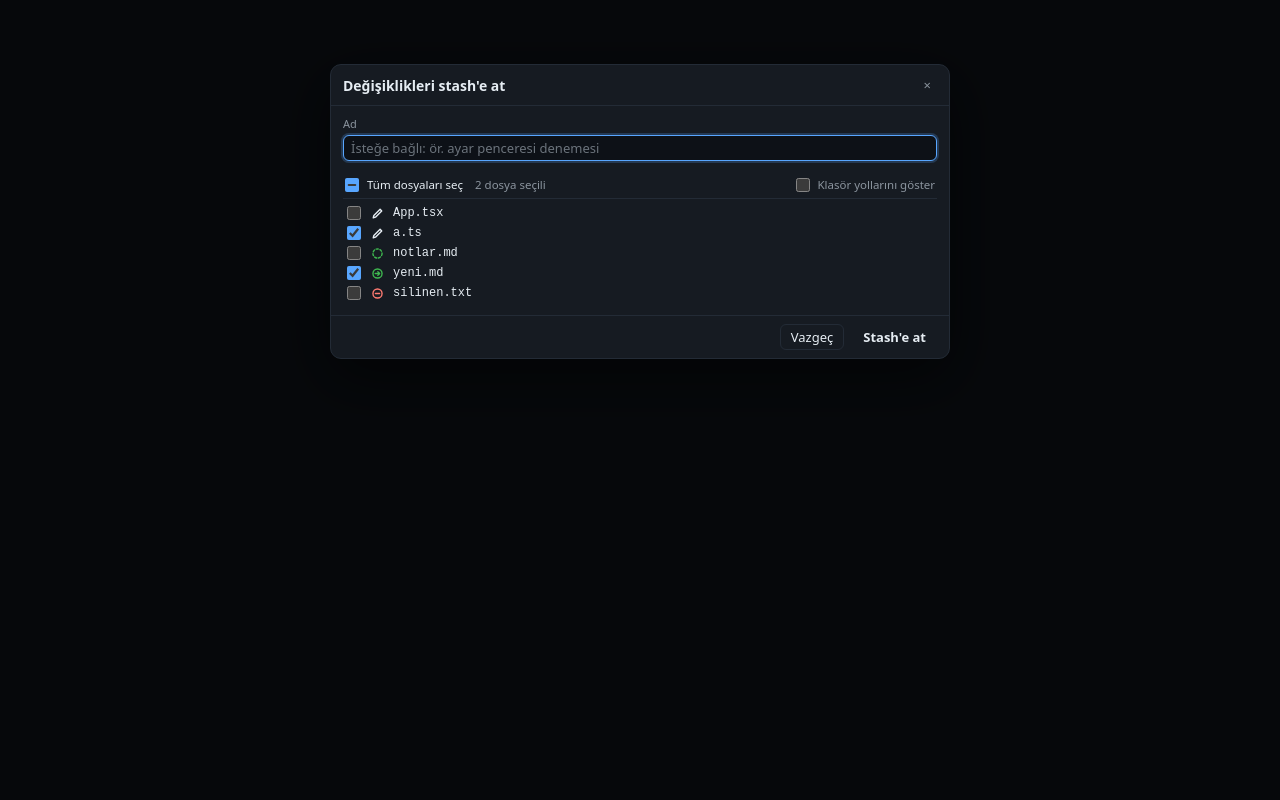
Test case: hata › pencere AÇIK kalıyor, ad ve seçim korunuyor, git'in metni kalıcı kutuda
Click the checkbox labelled "Tüm dosyaları seç": (352, 184) top-left (345, 178), bottom-right (359, 192)
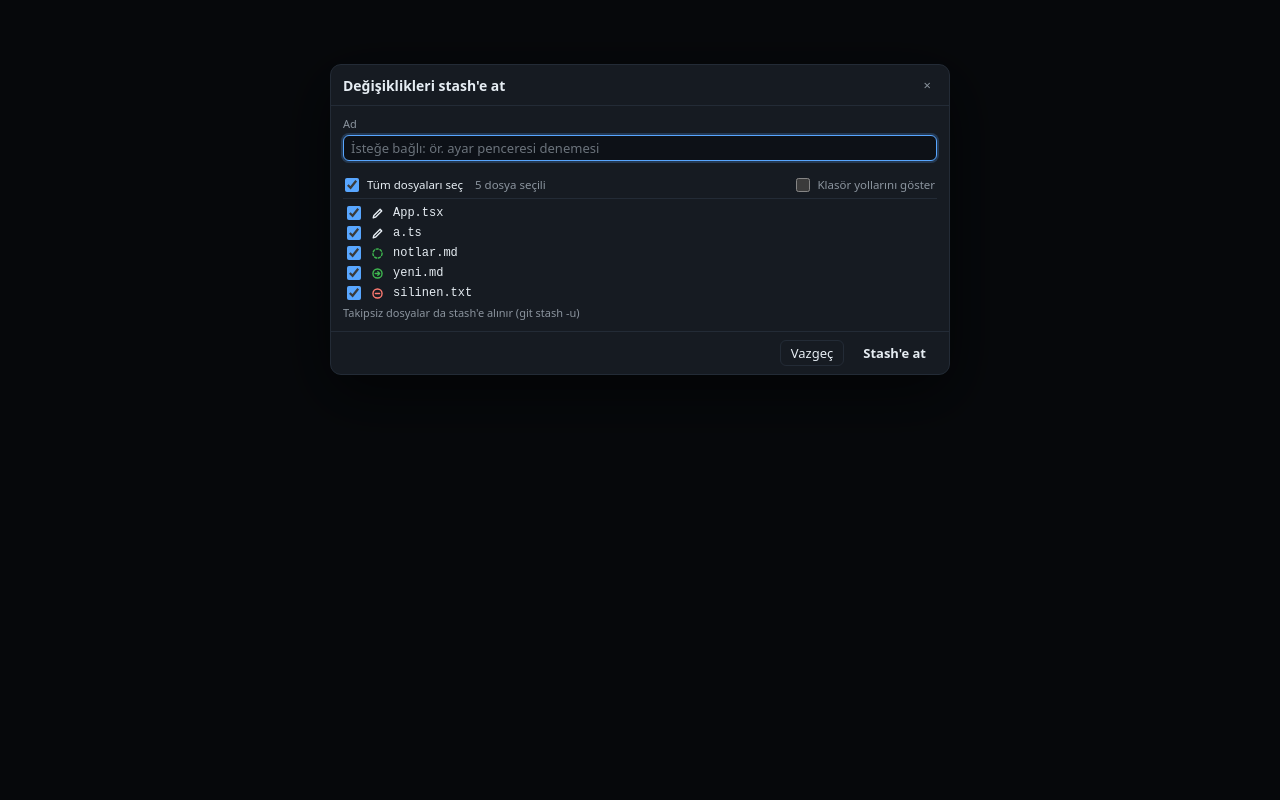
In the field with id "stash-name": (640, 148) top-left (343, 135), bottom-right (937, 161), type "kayboldu mu"
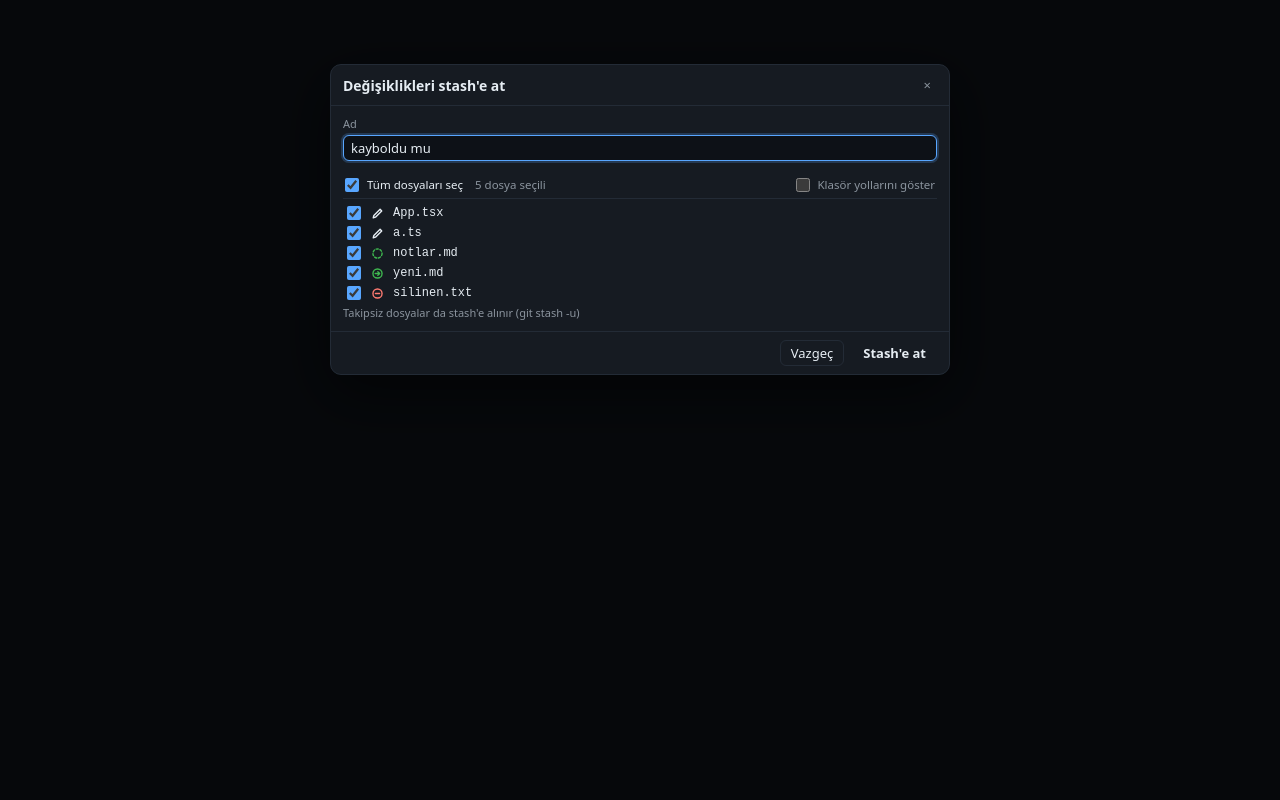
Click the checkbox labelled "silinen.txt": (354, 293) top-left (347, 286), bottom-right (361, 300)
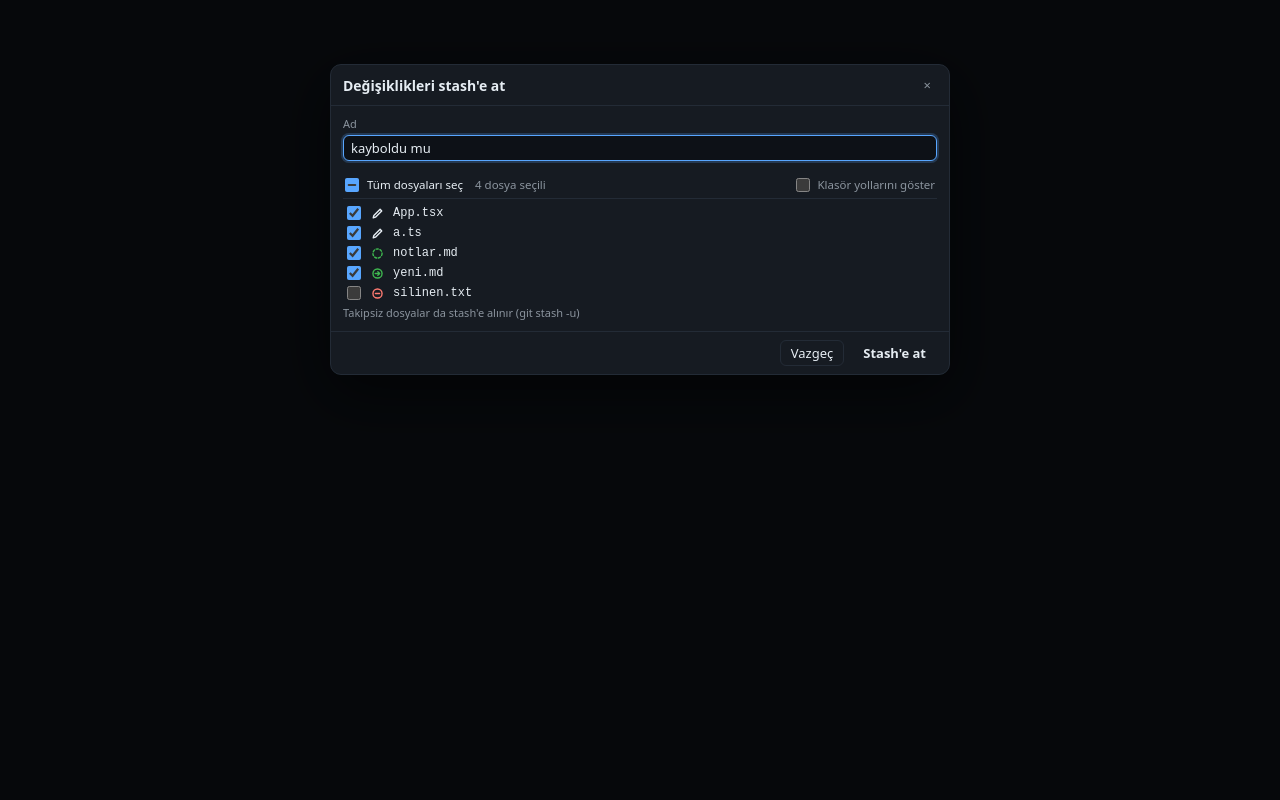
Click the button "Stash'e at": (895, 353) top-left (852, 340), bottom-right (937, 366)
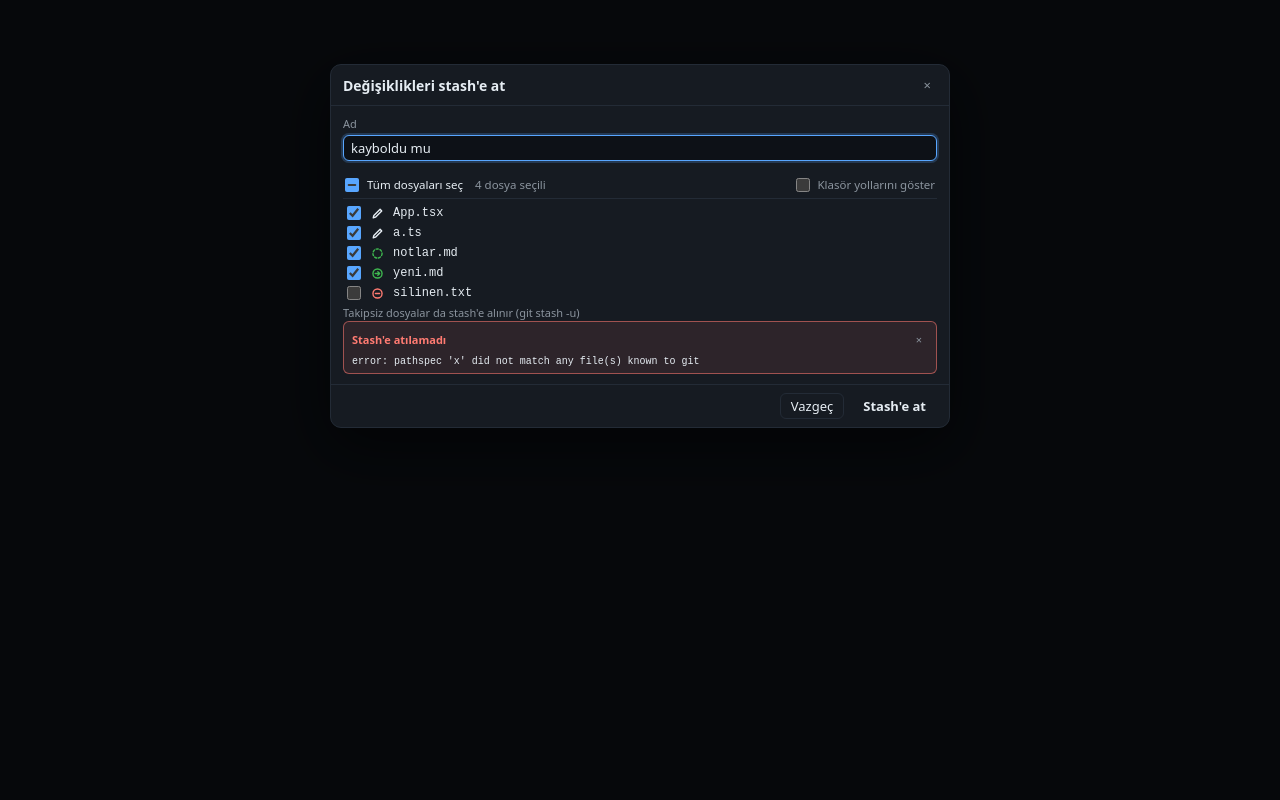
Expected: the checkbox labelled "silinen.txt" is not checked, top-left (347, 286), bottom-right (361, 300)
Expected: the message with class "git-commit-error" shows "Stash'e atılamadı", top-left (352, 332), bottom-right (446, 347)
Expected: the text "error: pathspec 'x' did not match any file(s) known to git" is shown, top-left (352, 356), bottom-right (700, 367)
